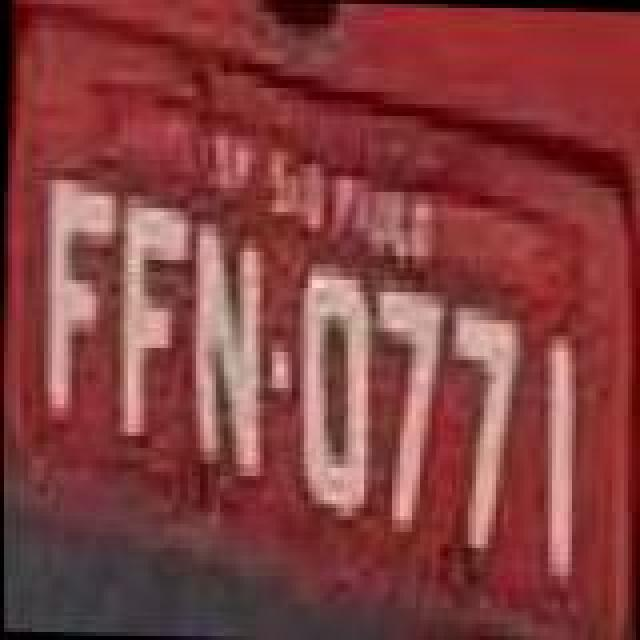1: (532, 334, 584, 586)
7: (364, 284, 448, 540), (436, 298, 520, 554)
F: (32, 166, 116, 434), (112, 186, 196, 442)
N: (186, 208, 270, 488)
O: (286, 258, 370, 526)
